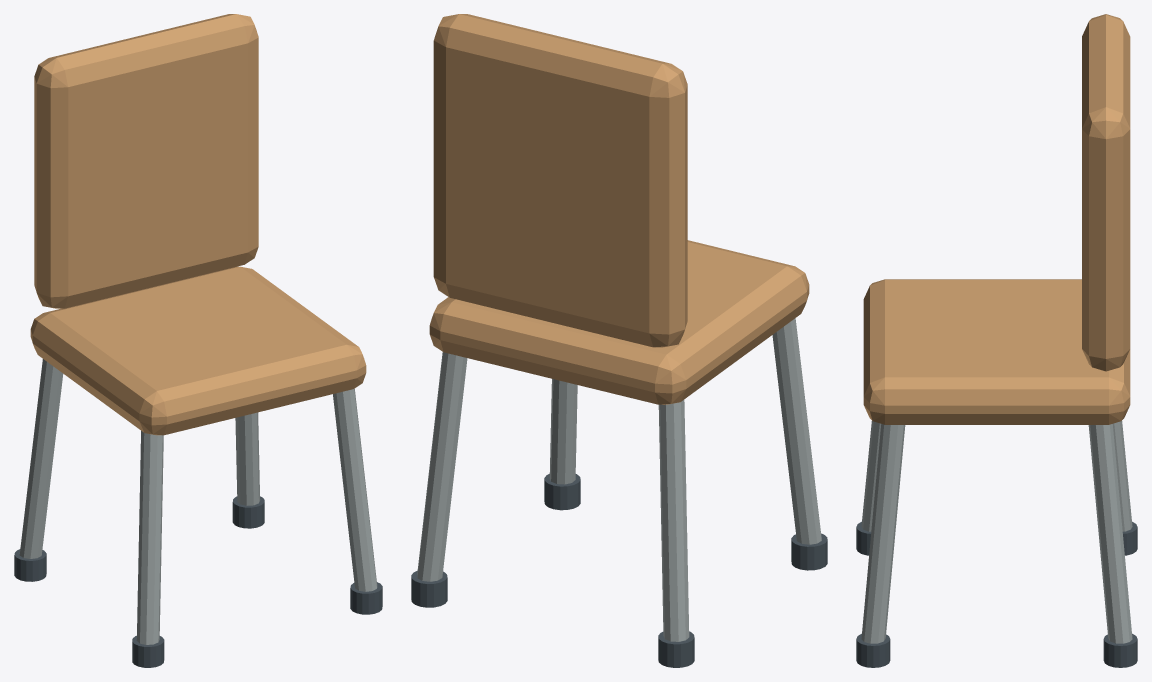
File: lobby_T1_waiting_chair_orange.glb
The picture shows the model from 3 angles, left to right: view 1: azimuth 30°, elevation 25°; view 2: azimuth 150°, elevation 25°; view 3: azimuth 270°, elevation 25°; orthographic projection. The views are drawn at different scales.
Visible parts, largest first — view 1: lobby_T1_waiting_chair_orange__Static_Assembly; view 2: lobby_T1_waiting_chair_orange__Static_Assembly; view 3: lobby_T1_waiting_chair_orange__Static_Assembly.
Boxes of the visible parts, box(x1,y1,x2,y2) form: lobby_T1_waiting_chair_orange__Static_Assembly: box(14, 14, 382, 667); lobby_T1_waiting_chair_orange__Static_Assembly: box(411, 14, 827, 667); lobby_T1_waiting_chair_orange__Static_Assembly: box(856, 14, 1137, 667).
Bounding box in the file's own units: 0.493 × 0.99 × 0.464.
